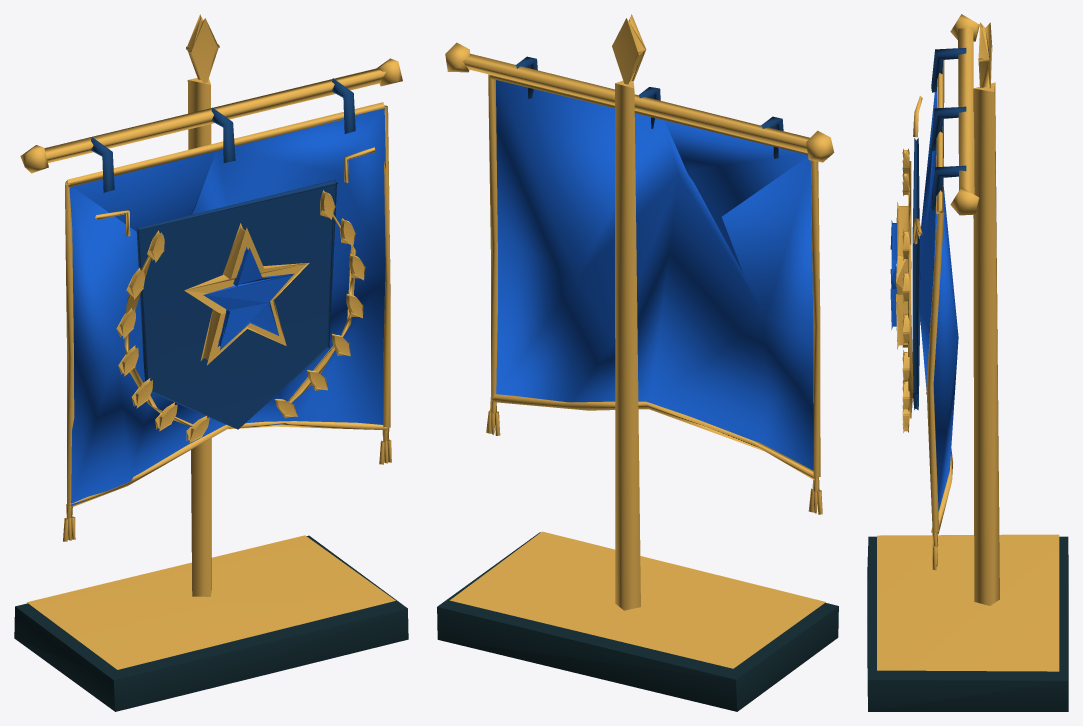
Rendered from chess.banner.crest.lod1.glb.
3 views of the same model, side by side, from view 1: azimuth 30°, elevation 25°; view 2: azimuth 150°, elevation 25°; view 3: azimuth 270°, elevation 25° (orthographic).
Visible parts, largest first — view 1: banner_crest_inset; view 2: banner_crest_inset; view 3: banner_crest_inset.
Boxes of the visible parts, x1=… form: banner_crest_inset: x1=14, y1=14, x2=408, y2=711; banner_crest_inset: x1=437, y1=14, x2=838, y2=711; banner_crest_inset: x1=867, y1=14, x2=1068, y2=711.
Bounding box in the file's own units: 0.4766 × 0.7456 × 0.2198.
